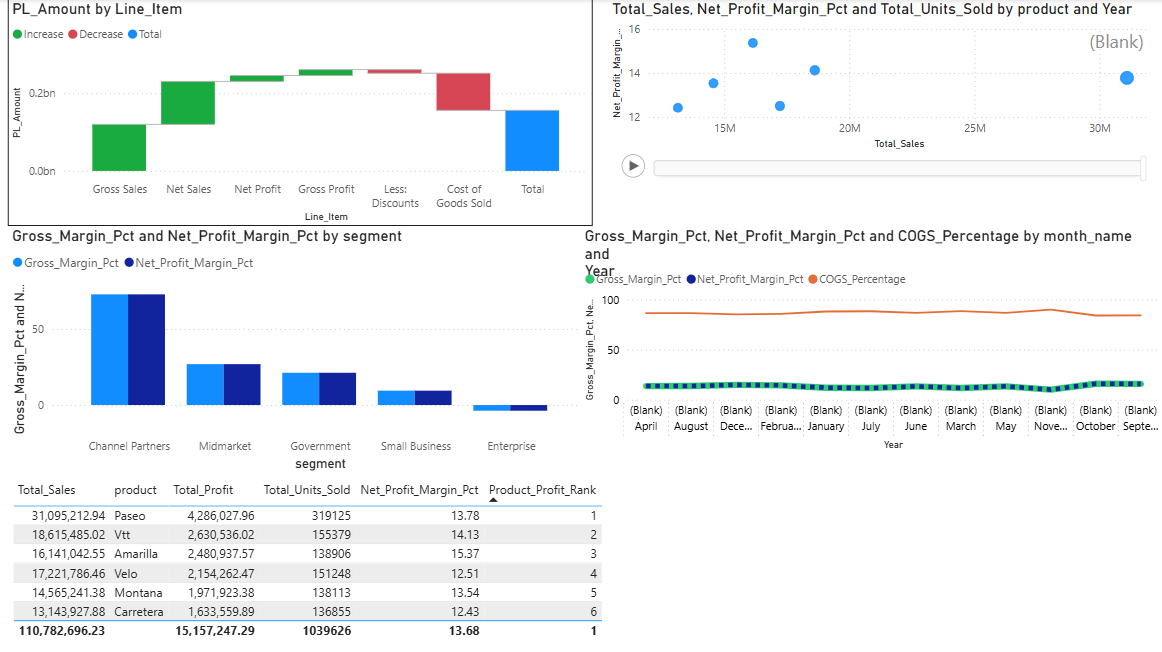

This screenshot's page, from the dashboard's own definition file:
{"tool":"powerbi","page":{"name":"Page 2","canvas":[1280,720],"ordinal":1},"visuals":[{"type":"waterfallChart","fields":{"Category":["PL_Line_Items.Line_Item"],"Y":["PL_Line_Items.PL_Amount"]},"box":[28.8,22,580.4,240.1],"z":0},{"type":"scatterChart","fields":{"Category":["financial_operations_db fact_sales.product"],"X":["_Measures.Total_Sales"],"Y":["_Financial_Ratios.Net_Profit_Margin_Pct"],"Size":["_Measures.Total_Units_Sold"],"Play":["Date_Dimension.Year"]},"box":[669.6,23.3,580.4,240.1],"z":1000},{"type":"clusteredColumnChart","fields":{"Category":["financial_operations_db fact_sales.segment"],"Y":["_Financial_Ratios.Gross_Margin_Pct","_Financial_Ratios.Net_Profit_Margin_Pct"]},"box":[30.2,282.7,579.1,223.7],"z":2000},{"type":"lineChart","fields":{"Category":["financial_operations_db fact_sales.month_name","Date_Dimension.Year"],"Y":["_Financial_Ratios.Gross_Margin_Pct","_Financial_Ratios.Net_Profit_Margin_Pct","_Financial_Ratios.COGS_Percentage"]},"box":[669.6,282.7,580.4,223.7],"z":3000},{"type":"tableEx","fields":{"Values":["_Measures.Total_Sales","financial_operations_db fact_sales.product","_Measures.Total_Profit","_Measures.Total_Units_Sold","_Financial_Ratios.Net_Profit_Margin_Pct","_Product_Analysis_Measures.Product_Profit_Rank"]},"box":[296.4,522.8,686.1,197.6],"z":4000}]}

Visuals, with their boxes in screenshot pixels (x1, y1, x2, y2), scaled from the page's 1280x720 canvas onto the 1162x652 screenshot:
waterfallChart - PL_Line_Items.Line_Item x PL_Line_Items.PL_Amount: <region>26, 20, 553, 237</region>
scatterChart - financial_operations_db fact_sales.product x _Measures.Total_Sales: <region>608, 21, 1135, 239</region>
clusteredColumnChart - financial_operations_db fact_sales.segment x _Financial_Ratios.Gross_Margin_Pct: <region>27, 256, 553, 459</region>
lineChart - financial_operations_db fact_sales.month_name x Date_Dimension.Year: <region>608, 256, 1135, 459</region>
tableEx - _Measures.Total_Sales x financial_operations_db fact_sales.product: <region>269, 473, 892, 651</region>
